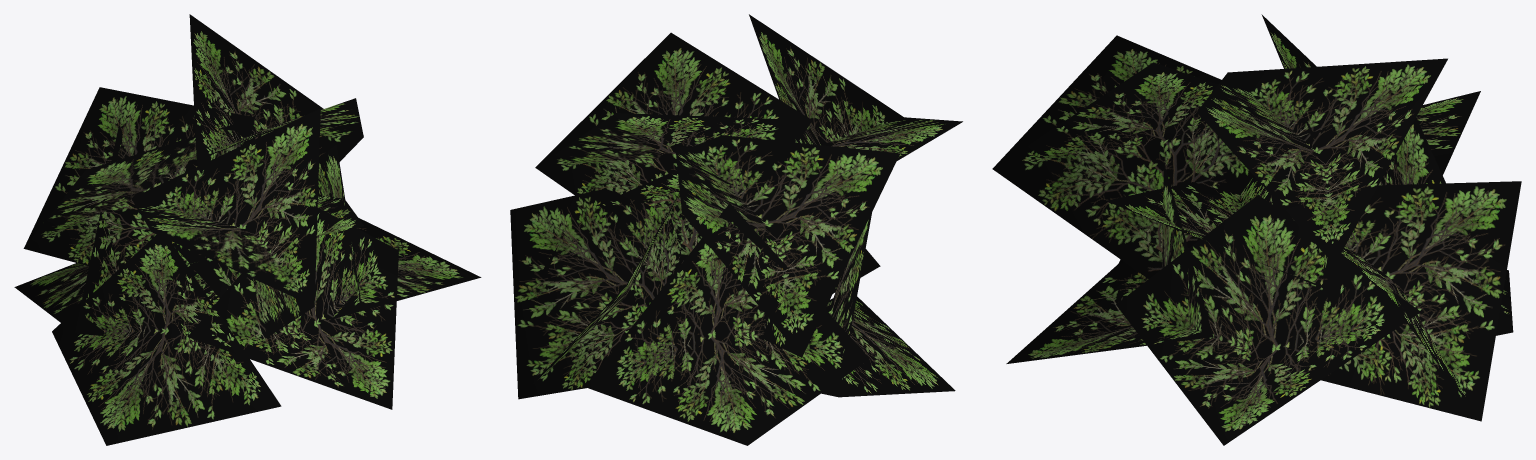
Rendered from m_leaves_1.fbx.
3 renders of one model, left to right at view 1: azimuth 30°, elevation 25°; view 2: azimuth 150°, elevation 25°; view 3: azimuth 270°, elevation 25°, orthographic. The views are drawn at different scales.
Visible parts, largest first — view 1: mesh_leaves_1; view 2: mesh_leaves_1; view 3: mesh_leaves_1.
Part boxes in pixels (x1,y1,x2,y2): mesh_leaves_1: (14,14,481,445); mesh_leaves_1: (510,14,962,445); mesh_leaves_1: (992,14,1521,445).
Size of the model in its own units: 8.5 by 6.1 by 8.52.
